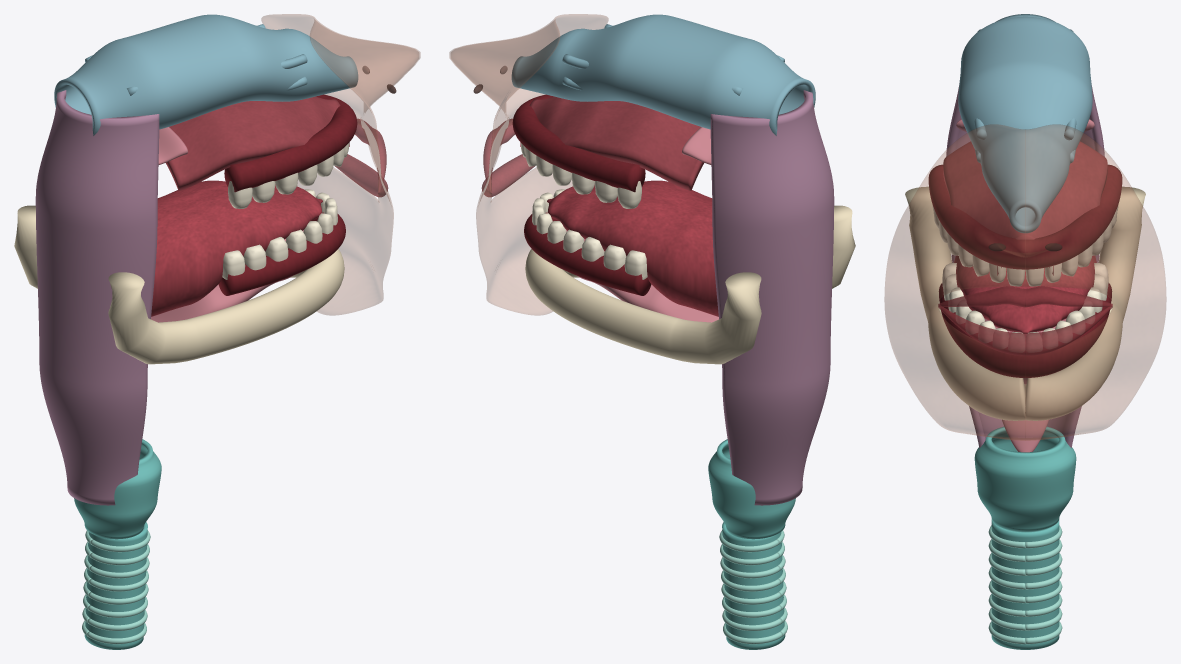
The model's file is vocal-tract.glb.
3 renders of one model, left to right at view 1: azimuth 30°, elevation 25°; view 2: azimuth 150°, elevation 25°; view 3: azimuth 270°, elevation 25°, orthographic. The views are drawn at different scales.
Parts seen in each view (by area): view 1: PharyngealWall, NasalCavityWall, FacialShell, Mandible, Tongue, HardPalate, UpperGum, Trachea, Larynx, LowerGum, MouthFloor, LowerLip (+2 smaller); view 2: PharyngealWall, NasalCavityWall, FacialShell, Mandible, Tongue, HardPalate, UpperGum, Trachea, Larynx, LowerGum, MouthFloor, LowerLip (+2 smaller); view 3: FacialShell, NasalCavityWall, Mandible, Larynx, UpperGum, HardPalate, Tongue, Trachea, LowerGum, LowerLip, PharyngealWall, UpperLip (+10 smaller).
Boxes of the visible parts, box(x1,y1,x2,y2) form: PharyngealWall: box(35, 90, 159, 505); NasalCavityWall: box(54, 14, 358, 135); FacialShell: box(261, 14, 420, 315); Mandible: box(14, 205, 344, 364); Tongue: box(151, 180, 322, 316); HardPalate: box(166, 96, 349, 190); UpperGum: box(224, 94, 357, 192); Trachea: box(84, 522, 147, 649); Larynx: box(74, 439, 161, 539); LowerGum: box(218, 212, 345, 295); MouthFloor: box(151, 230, 303, 322); LowerLip: box(335, 154, 388, 197); PharyngealWall: box(710, 90, 834, 505); NasalCavityWall: box(511, 14, 815, 135); FacialShell: box(449, 14, 608, 315); Mandible: box(525, 205, 855, 364); Tongue: box(547, 180, 718, 316); HardPalate: box(520, 96, 703, 190); UpperGum: box(512, 94, 645, 192); Trachea: box(722, 522, 785, 649); Larynx: box(708, 439, 795, 539); LowerGum: box(524, 212, 651, 295); MouthFloor: box(566, 230, 718, 322); LowerLip: box(481, 154, 534, 197); FacialShell: box(884, 124, 1166, 440); NasalCavityWall: box(958, 14, 1092, 233); Mandible: box(905, 186, 1145, 420); Larynx: box(974, 426, 1076, 531); UpperGum: box(928, 164, 1122, 269); HardPalate: box(943, 141, 1107, 275); Tongue: box(954, 255, 1096, 333); Trachea: box(991, 520, 1059, 649); LowerGum: box(939, 283, 1111, 377); LowerLip: box(938, 304, 1112, 355); PharyngealWall: box(946, 85, 1104, 448); UpperLip: box(938, 286, 1112, 307).
Bounding box in the file's own units: 0.1805 × 0.2712 × 0.11.
14 materials, 5 textured.
